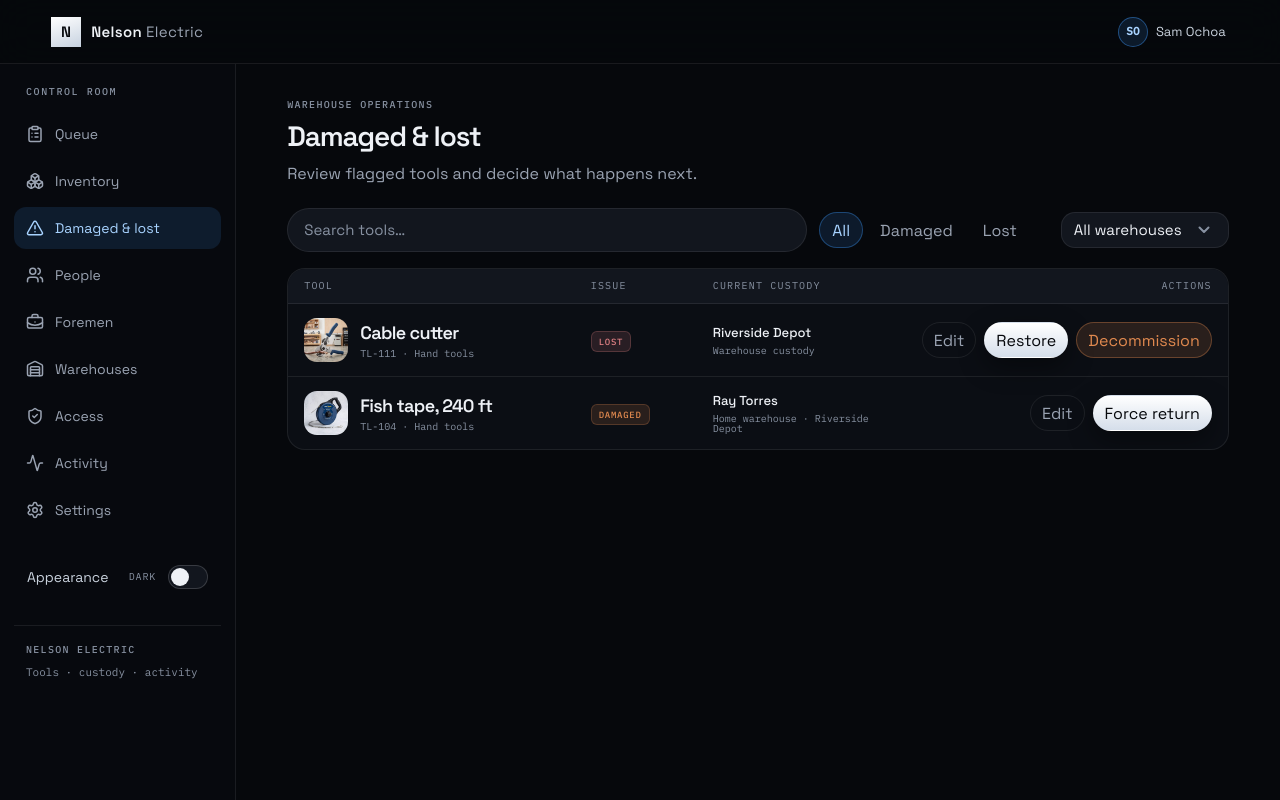
Test: flagged tool decision actions › decommissions a warehouse-held flagged unit and preserves its history
Check: the heading "Damaged & lost" is shown, box [287,118,481,154]
Click the button "Decommission" at (1144, 340), box [1076,322,1212,358]
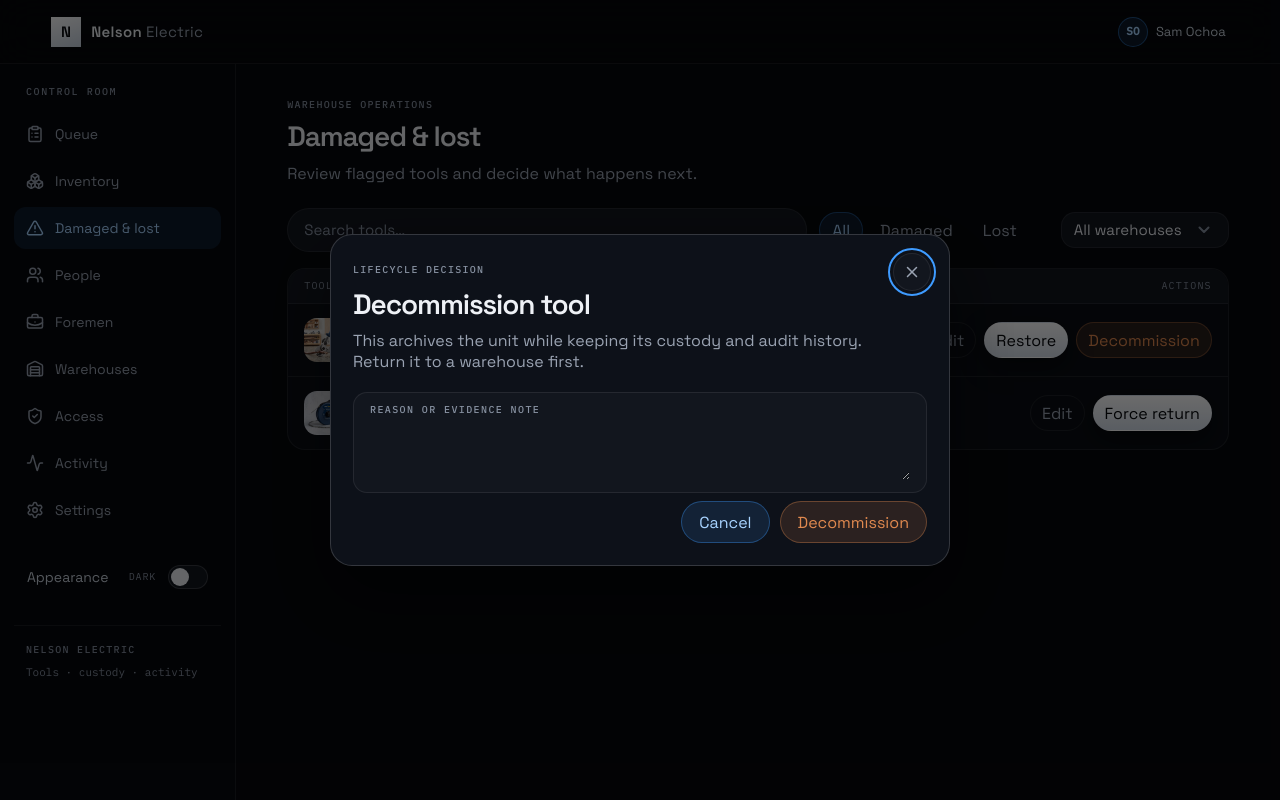
Type "Beyond repair" into the text box labelled "Reason or evidence note" at (640, 452), box [370,423,910,480]
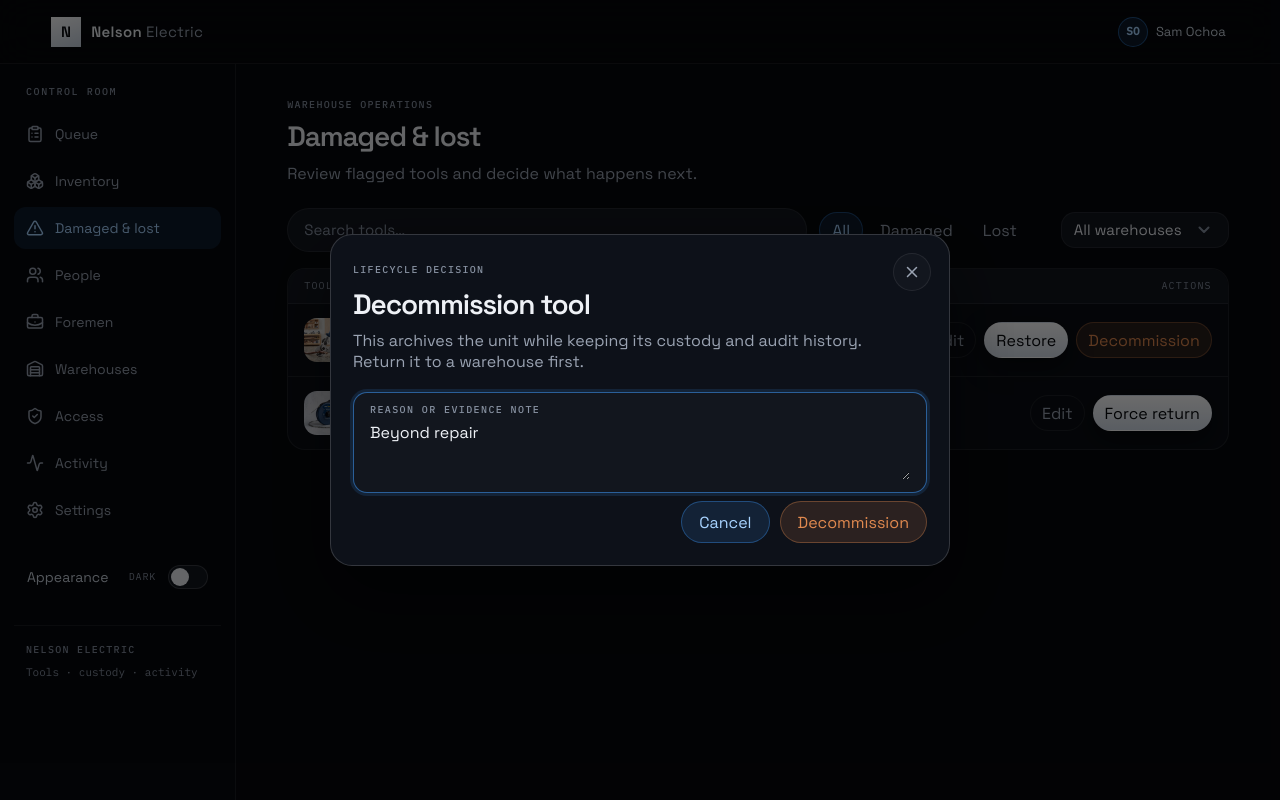
Click the button "Decommission" at (853, 522), box [780,501,927,543]
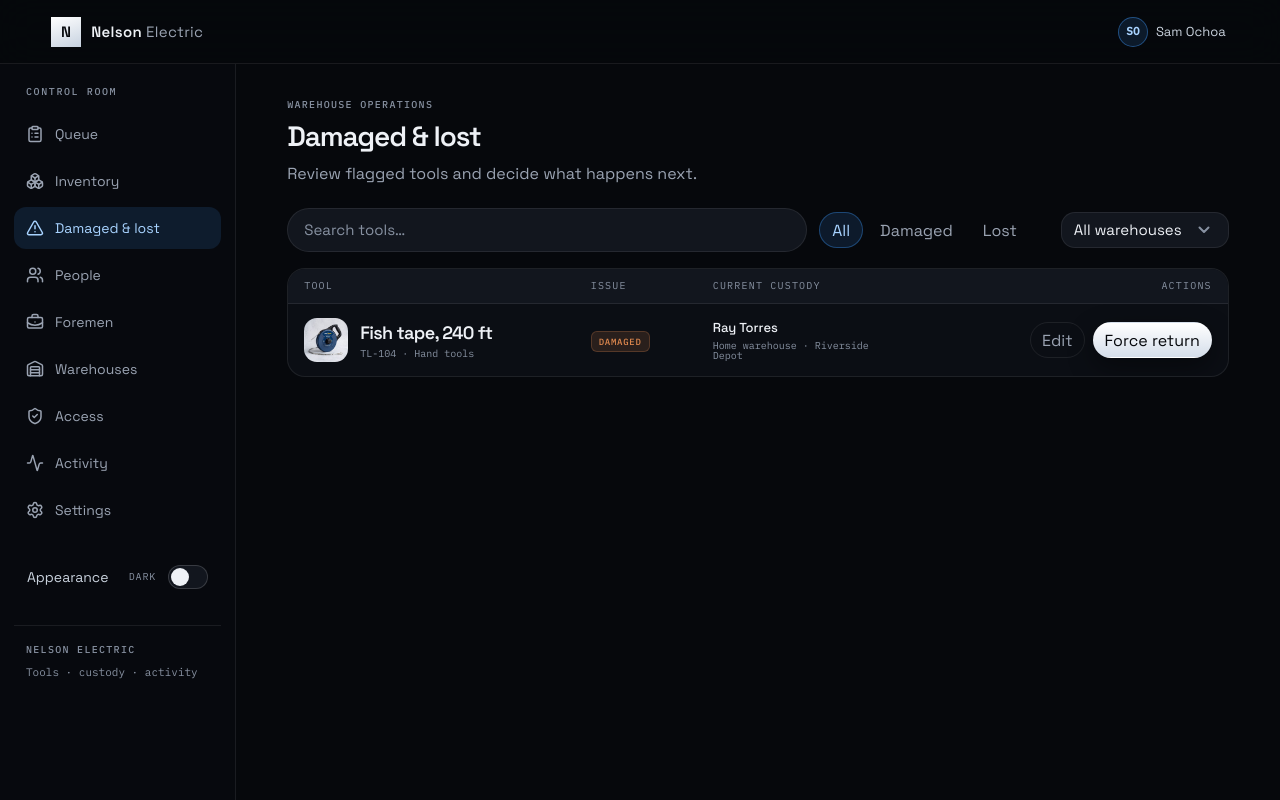
Check: the heading "Cable cutter" is gone
